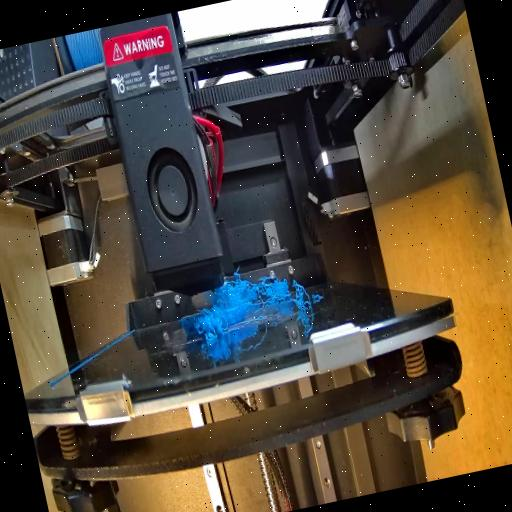spaghetti: (214, 274, 290, 316), (190, 300, 232, 343), (286, 274, 311, 310)
